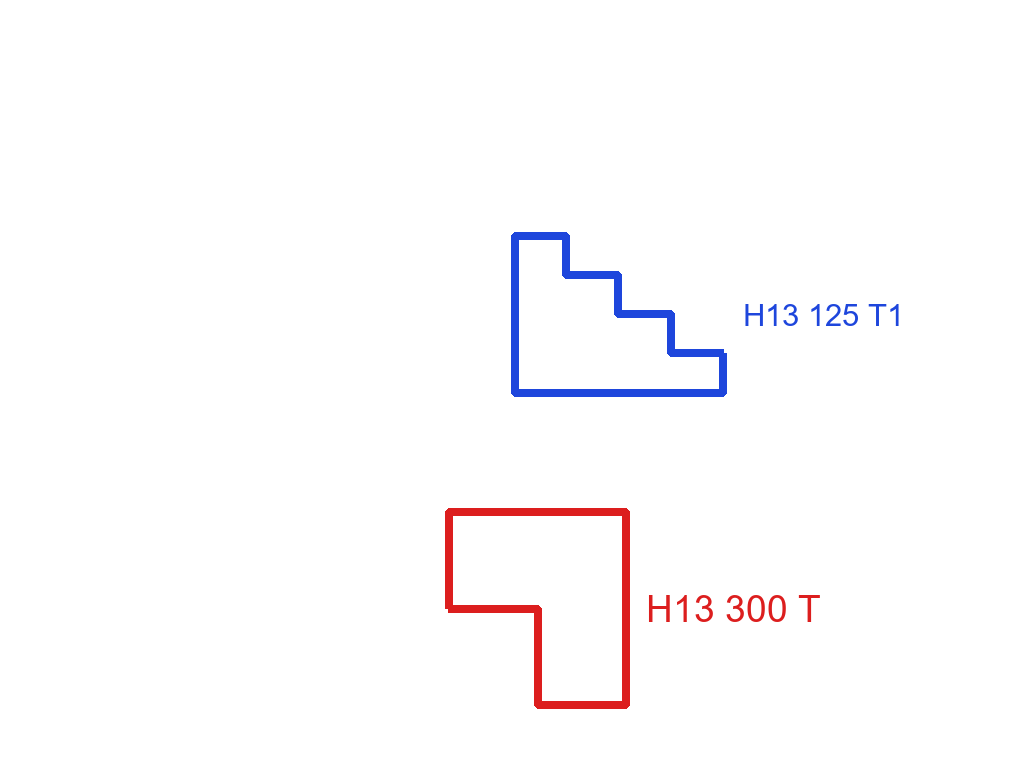shape: (443, 506, 632, 710), (509, 231, 729, 399)
text: (644, 593, 823, 624), (741, 302, 906, 328)
